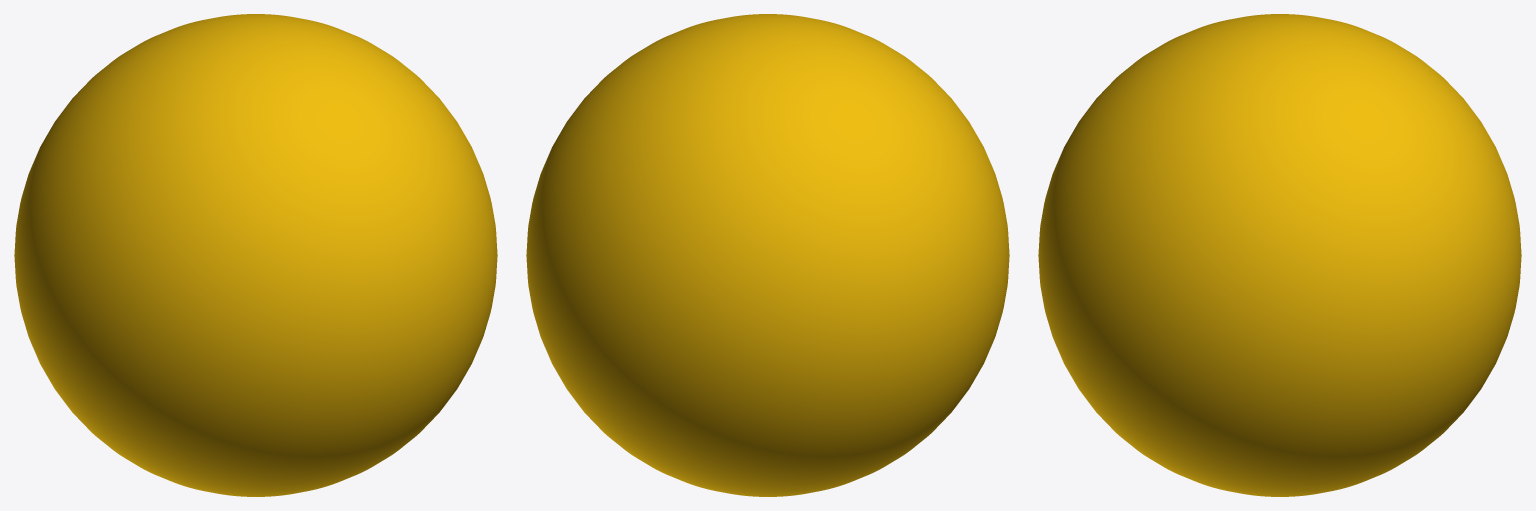
Rendered from marble_yellow.gltf.
The picture shows the model from 3 angles, left to right: view 1: azimuth 30°, elevation 25°; view 2: azimuth 150°, elevation 25°; view 3: azimuth 270°, elevation 25°; orthographic projection.
Visible parts, largest first — view 1: Sphere; view 2: Sphere; view 3: Sphere.
Boxes of the visible parts, x1,y1,x2,y2 form: Sphere: [14, 14, 497, 496]; Sphere: [526, 14, 1009, 496]; Sphere: [1038, 14, 1521, 496].
Size of the model in its own units: 0.1249 by 0.125 by 0.125.
